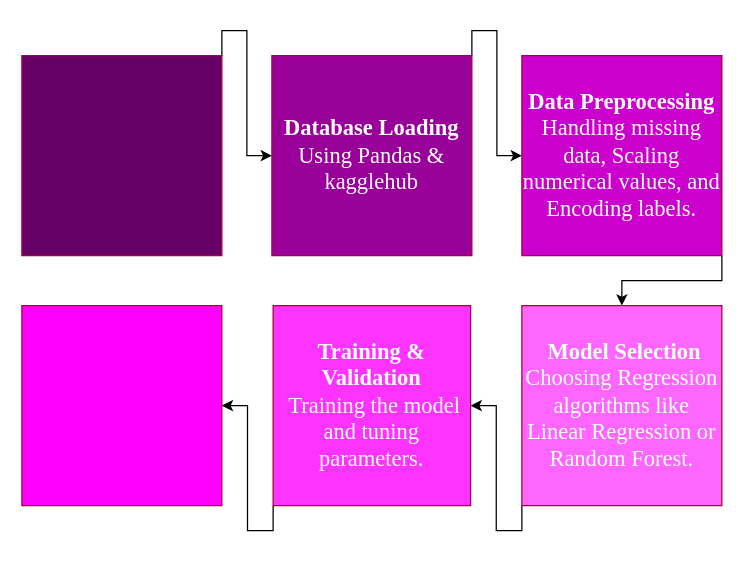
The diagram is 754 pixels wide and 563 high, and some of its shapes have lost their labels. Each missing label, with the centre of its shape:
Database Selection Choclate sales: [121,155]
Model Evaluation Measuring performance using R-squared and Mean Squared Error .: [121,405]
